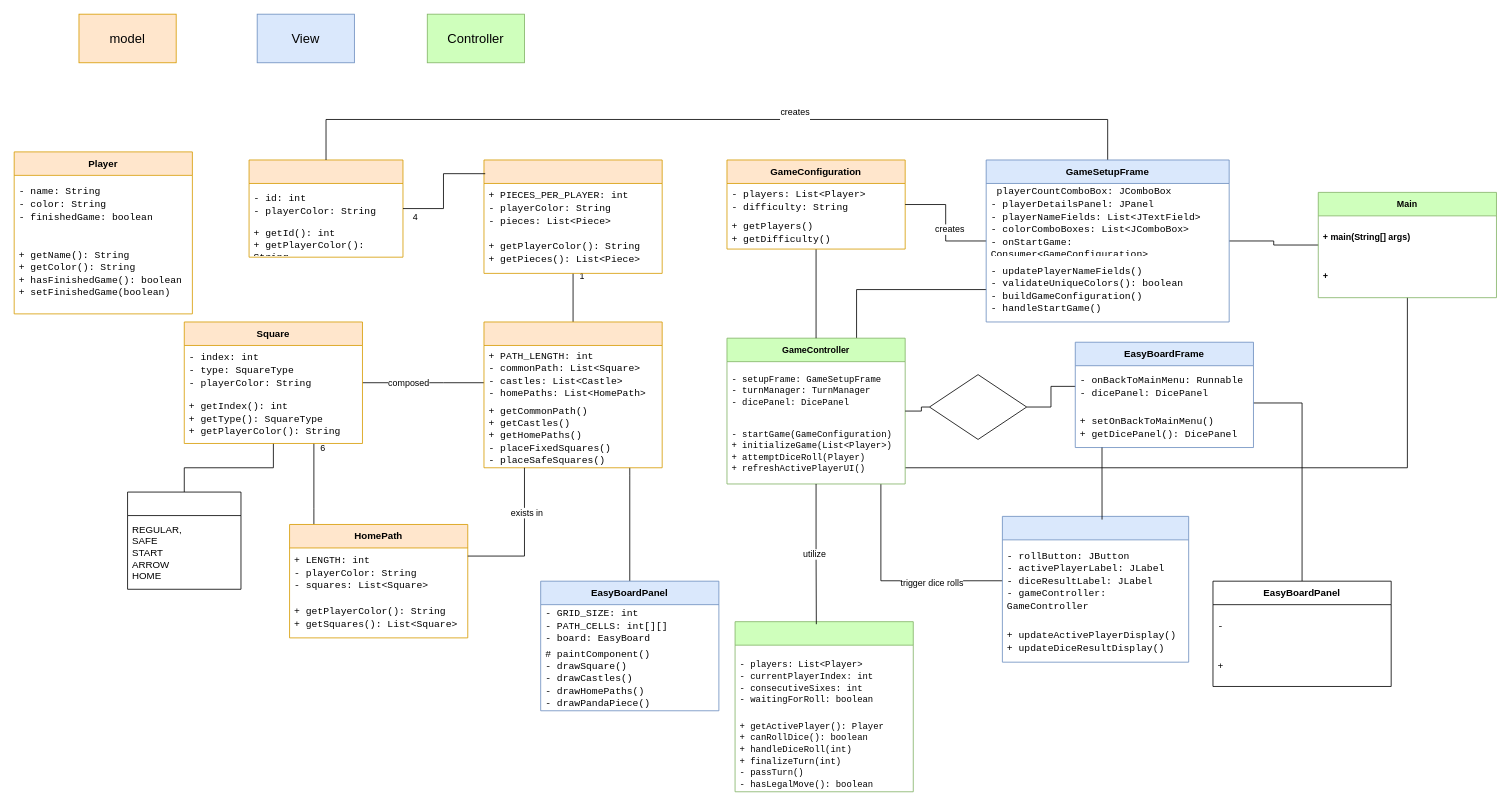
This 1511x806 diagram has some shape labels left out. Here are the shapes that lost their labels. From the top down, the box of each, then its label:
(248, 159, 403, 257): Piece
(483, 159, 662, 273): Castle
(483, 321, 662, 468): EasyBoard
(929, 374, 1027, 439): pass down to the dice controls.
(127, 491, 241, 589): <<SquareType>>
(1002, 516, 1189, 662): DicePanel
(734, 621, 913, 792): TurnManager
